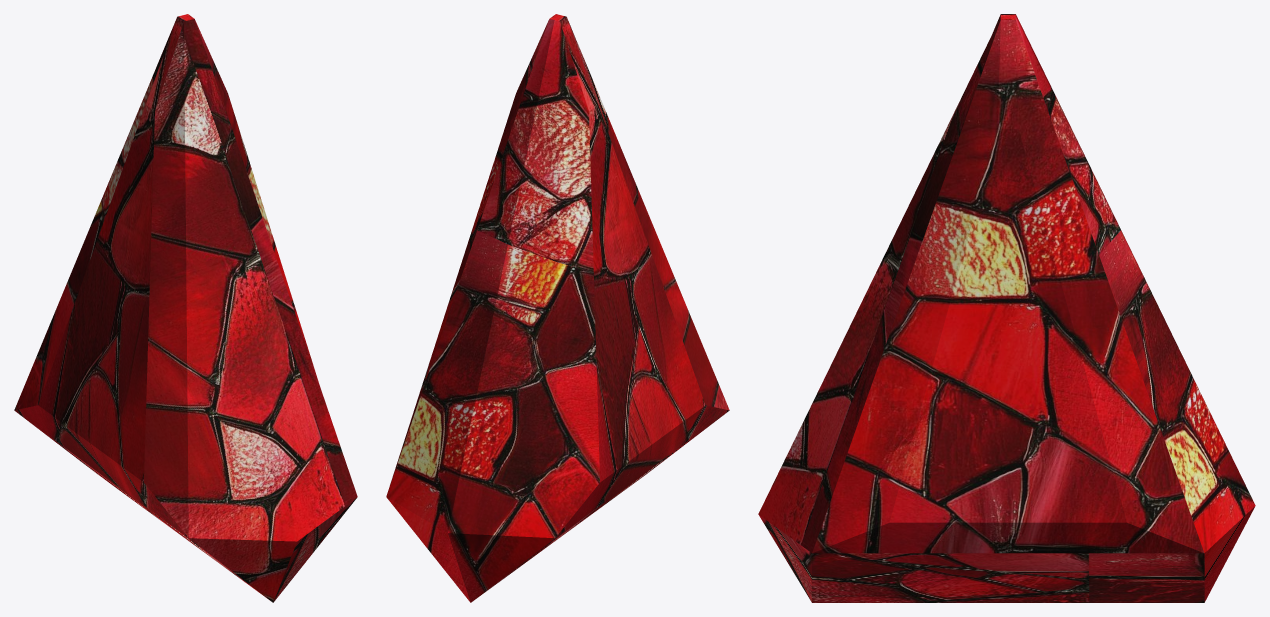
File: gemstone4RedCompressed.glb
The picture shows the model from 3 angles, left to right: view 1: azimuth 30°, elevation 25°; view 2: azimuth 150°, elevation 25°; view 3: azimuth 270°, elevation 25°; orthographic projection. The views are drawn at different scales.
Parts seen in each view (by area): view 1: gemstone3; view 2: gemstone3; view 3: gemstone3.
Boxes of the visible parts, bbox=[...] form: gemstone3: bbox=[14, 14, 357, 602]; gemstone3: bbox=[386, 14, 729, 602]; gemstone3: bbox=[758, 14, 1255, 602].
Size of the model in its own units: 0.5 by 1.3 by 1.
1 material, 1 textured.
